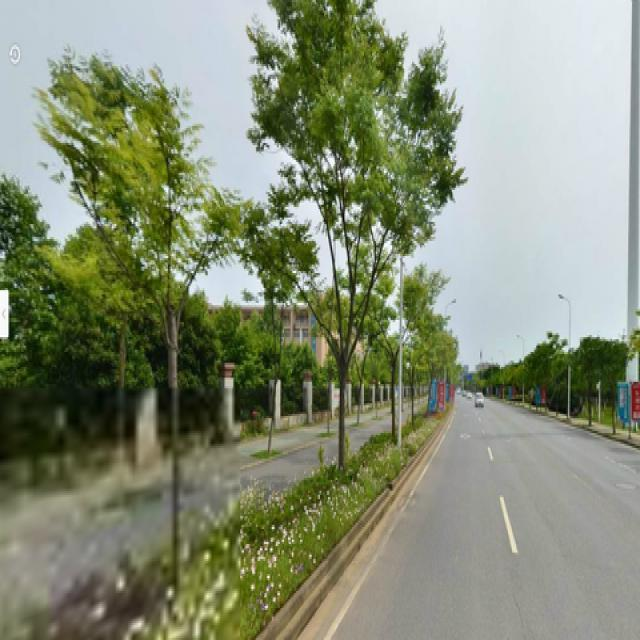koel: (253, 2, 439, 459)
